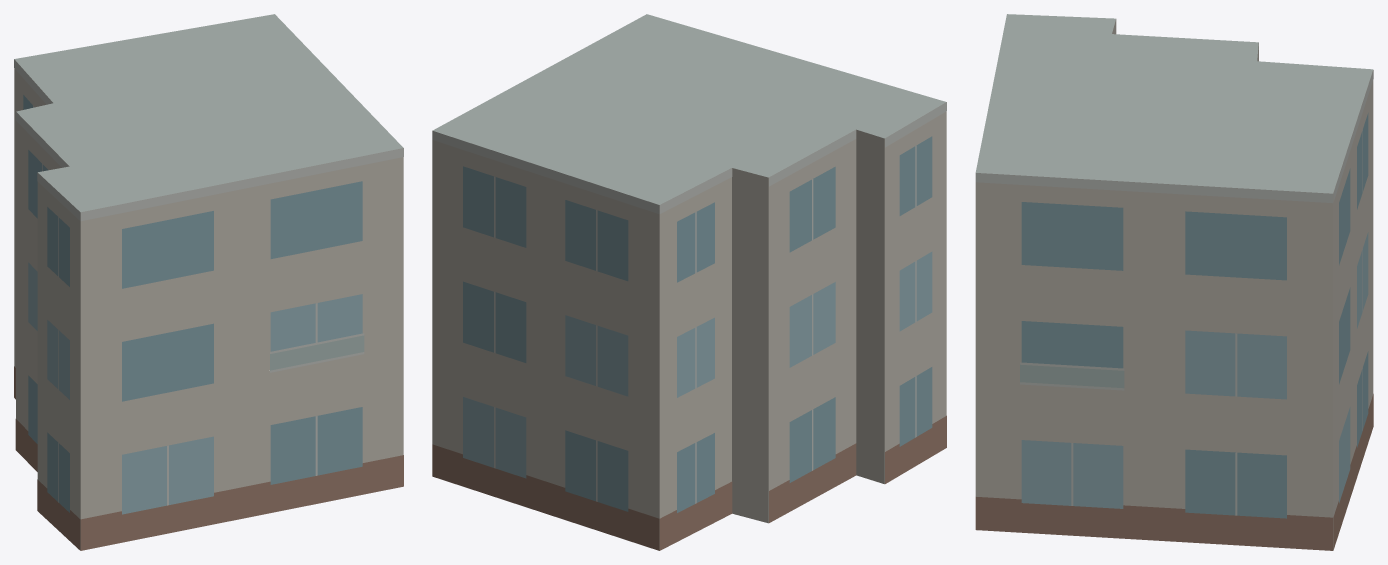
The model's file is survey-upis-32734770.glb.
3 renders of one model, left to right at view 1: azimuth 30°, elevation 25°; view 2: azimuth 150°, elevation 25°; view 3: azimuth 270°, elevation 25°, orthographic. The views are drawn at different scales.
Parts seen in each view (by area): view 1: survey-upis-32734770.tmp; view 2: survey-upis-32734770.tmp; view 3: survey-upis-32734770.tmp.
Part boxes in pixels (x1=…): survey-upis-32734770.tmp: x1=14, y1=14, x2=403, y2=550; survey-upis-32734770.tmp: x1=432, y1=14, x2=946, y2=550; survey-upis-32734770.tmp: x1=975, y1=14, x2=1373, y2=550.
Size of the model in its own units: 9.88 by 9.15 by 9.25.
